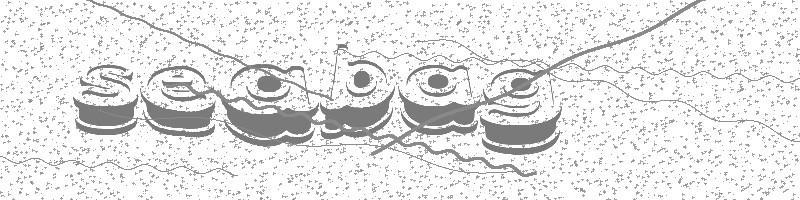a: (224, 63, 319, 147), (399, 64, 478, 136)
b: (320, 42, 395, 139)
e: (142, 65, 217, 137)
g: (481, 68, 563, 154)
s: (73, 62, 139, 136)
